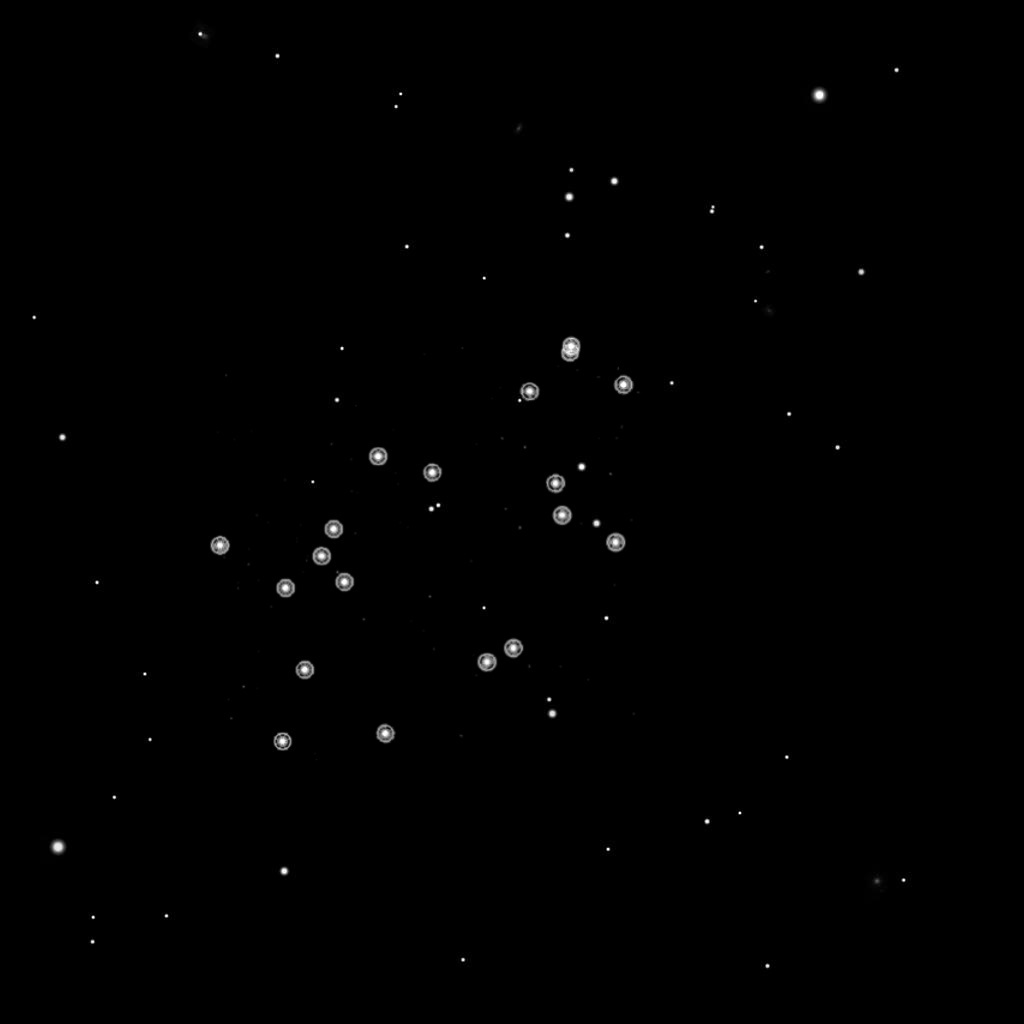canis_major: (269, 445, 446, 605)
